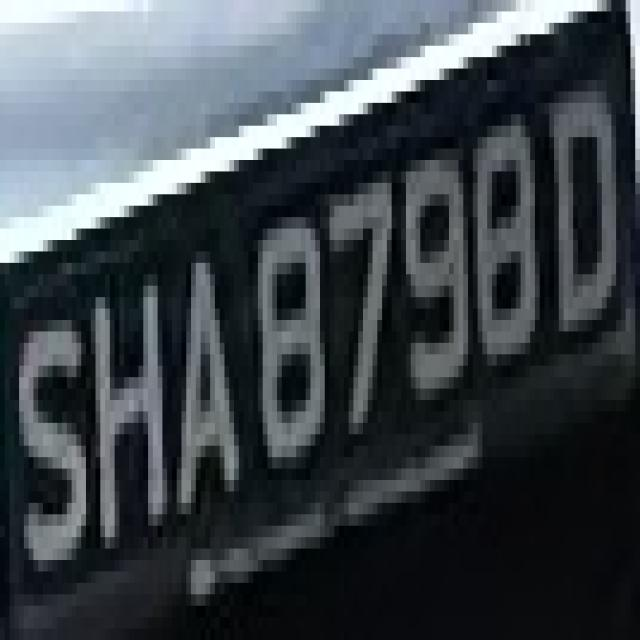7: (310, 172, 387, 468)
8: (464, 46, 544, 400), (248, 171, 329, 503)
9: (387, 126, 477, 434)
A: (153, 217, 253, 537)
D: (540, 34, 626, 366)
H: (81, 240, 177, 571)
S: (15, 274, 96, 583)
